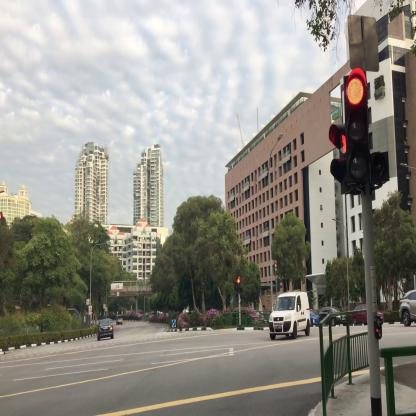red_traffic_light: (346, 74, 372, 180), (237, 278, 240, 292)
